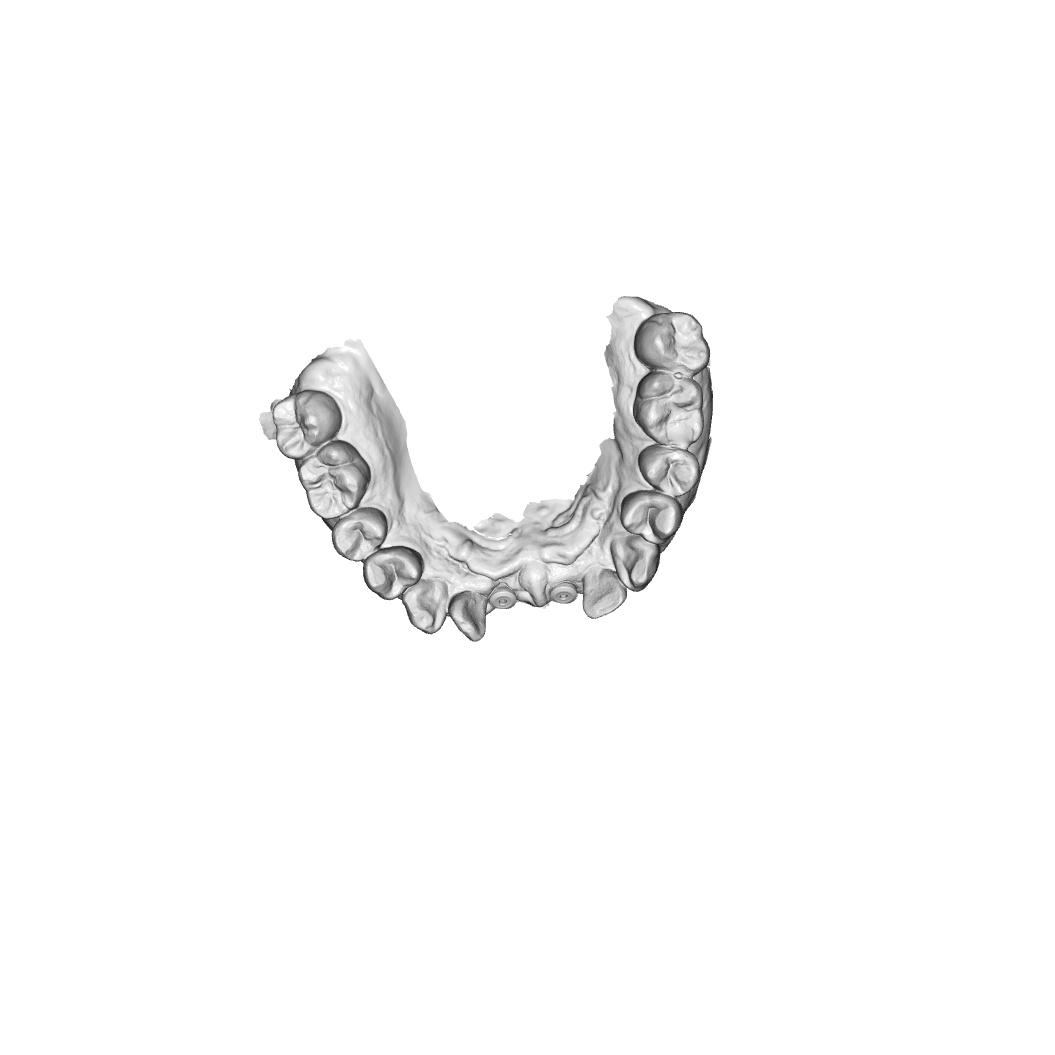canine: (610, 534, 661, 593), (400, 576, 449, 636)
implant: (487, 583, 517, 611), (549, 579, 578, 605)
incisor: (582, 565, 628, 619), (447, 589, 487, 643)
molar: (297, 440, 371, 519), (632, 371, 704, 447), (271, 389, 344, 461), (633, 311, 711, 377)
premolar: (620, 489, 684, 545), (637, 443, 701, 497), (362, 546, 424, 601), (331, 506, 389, 562)
